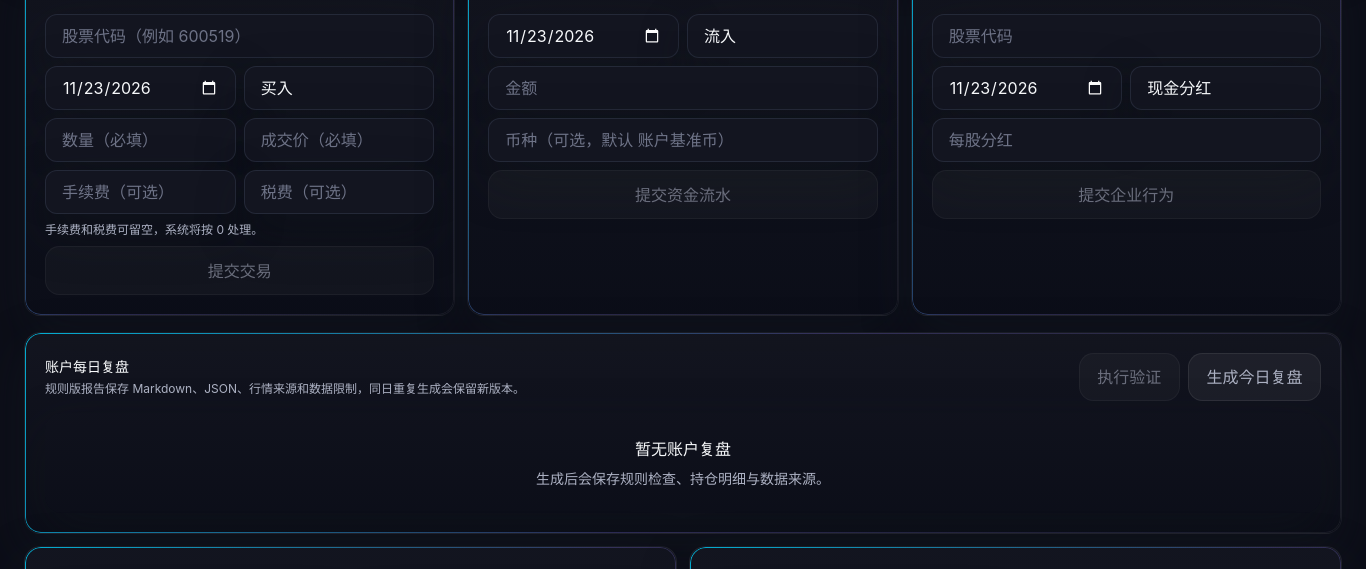
Test: PortfolioPage FX refresh › generates and renders an append-only portfolio review
(page scrolled)
Click the button "生成今日复盘": click(1254, 377) left=1188, top=353, right=1321, bottom=401
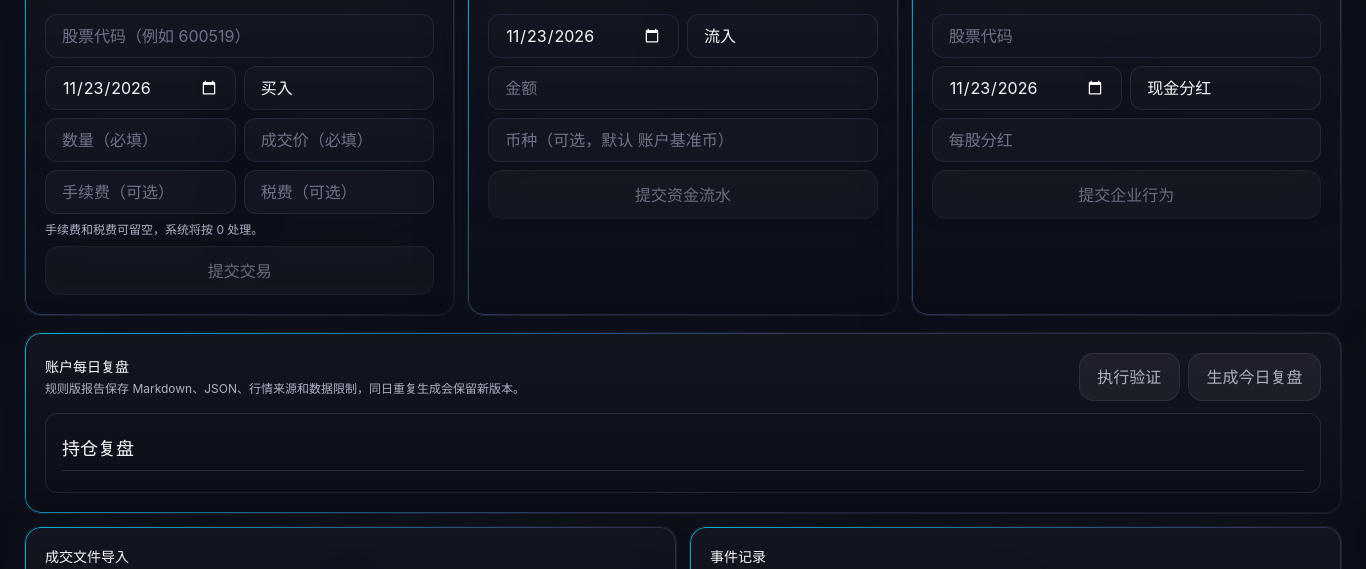
Expected: the element with test id "portfolio-review-markdown" reads "持仓复盘", left=62, top=438, right=134, bottom=459
Click the button "执行验证": click(1129, 377) left=1079, top=353, right=1180, bottom=401
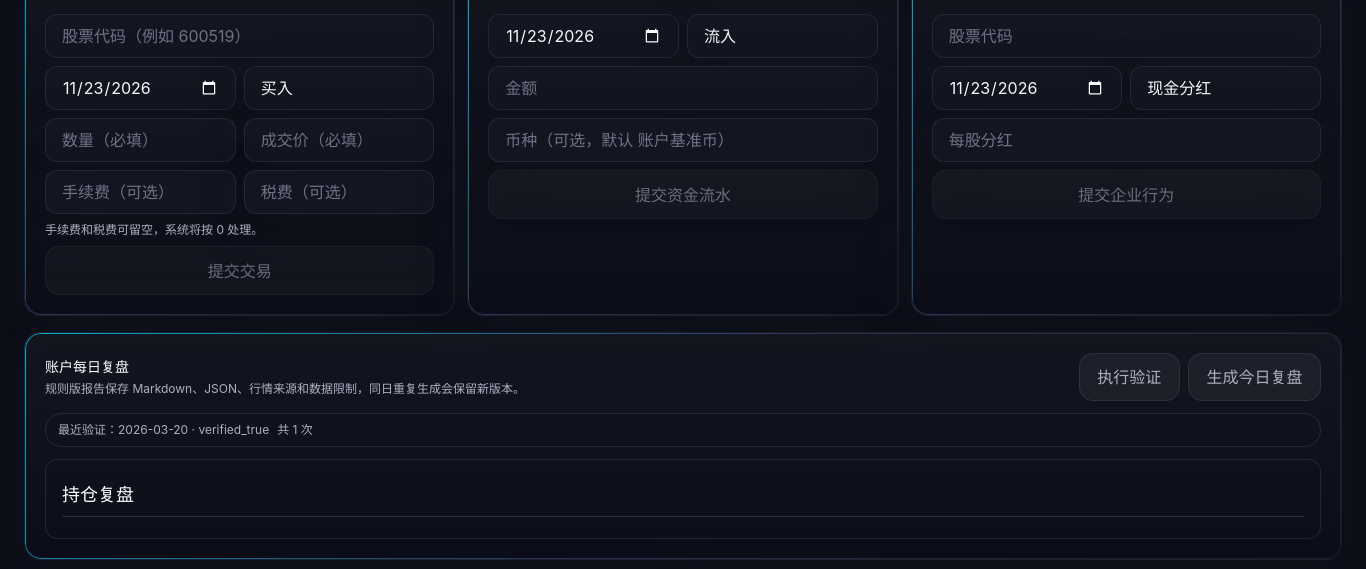
Expected: the text "最近验证：2026-03-20 · verified_true" is shown, left=45, top=413, right=1321, bottom=447
